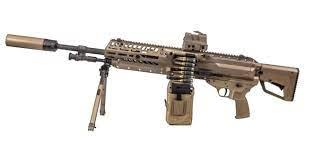larga: (5, 31, 300, 132)
